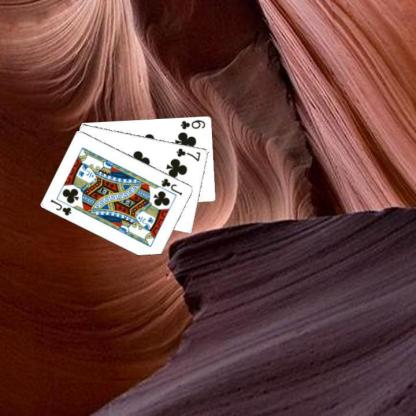6C: (178, 117, 207, 131)
7C: (174, 146, 202, 162)
JC: (159, 176, 184, 197), (48, 196, 73, 216)
